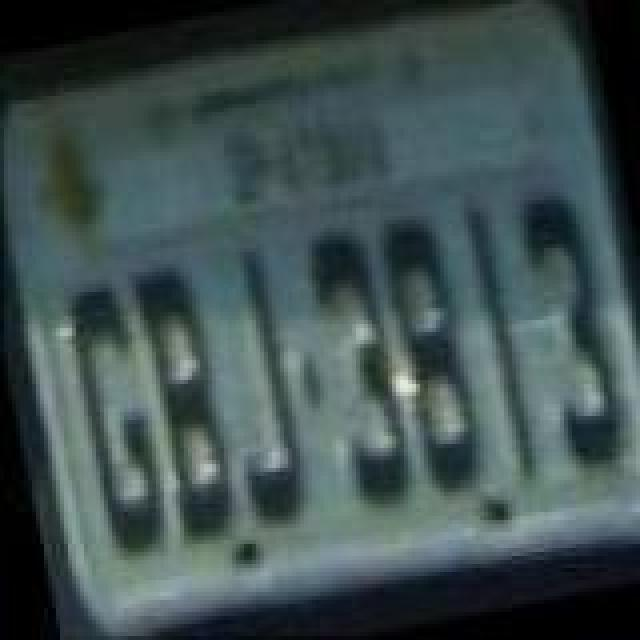1: (460, 202, 536, 482)
3: (300, 224, 416, 524), (512, 186, 628, 478)
8: (376, 210, 492, 506)
B: (124, 254, 240, 542)
G: (56, 276, 172, 564)
J: (200, 240, 316, 532)
